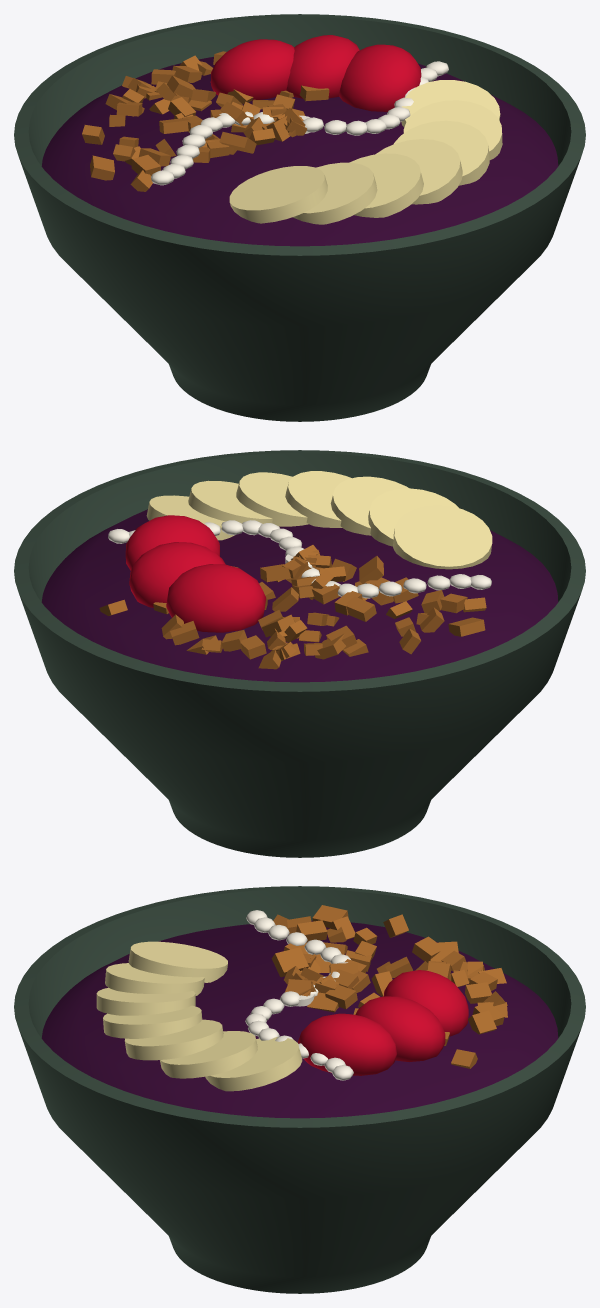
The model's file is acai_na_tigela.glb.
3 views of the same model, one above another, from view 1: azimuth 30°, elevation 25°; view 2: azimuth 150°, elevation 25°; view 3: azimuth 270°, elevation 25° (orthographic).
Parts seen in each view (by area): view 1: acai_na_tigela; view 2: acai_na_tigela; view 3: acai_na_tigela.
Boxes of the visible parts, <box> form: acai_na_tigela: <box>14,14,585,421</box>; acai_na_tigela: <box>14,450,585,857</box>; acai_na_tigela: <box>14,886,585,1293</box>.
Size of the model in its own units: 0.156 by 0.0823 by 0.156.
